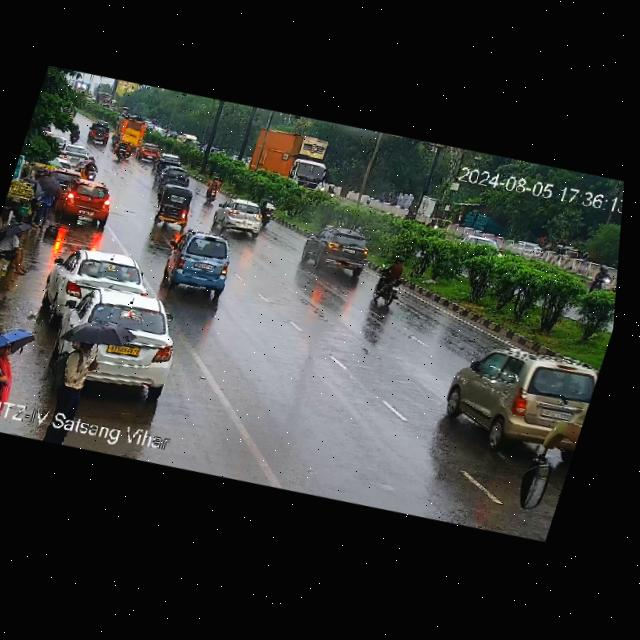bus: (108, 114, 151, 151)
car: (20, 272, 194, 413), (431, 328, 603, 459), (33, 235, 159, 343), (160, 223, 239, 303), (296, 217, 381, 284), (49, 172, 118, 230), (208, 193, 270, 240), (149, 183, 197, 231), (147, 162, 197, 201), (54, 141, 101, 173), (132, 135, 164, 169), (83, 118, 115, 146), (156, 150, 186, 168)
motorcycle: (367, 250, 421, 310), (581, 262, 617, 295), (199, 175, 228, 206), (76, 156, 103, 182), (112, 137, 137, 164), (64, 121, 86, 147)
person: (45, 315, 142, 421), (0, 311, 39, 403), (14, 163, 68, 228), (0, 217, 44, 281)
truck: (240, 119, 341, 198)
